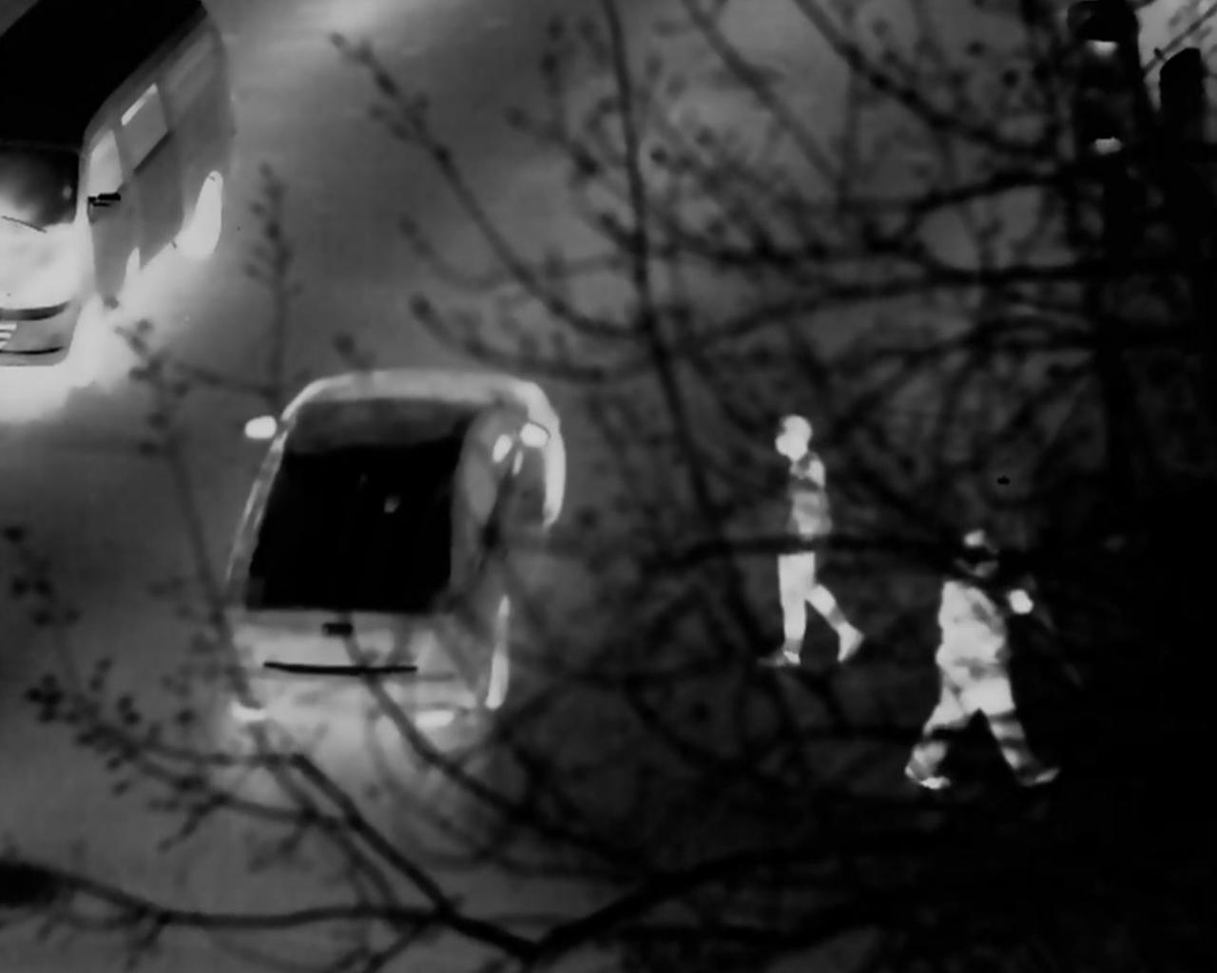person: (900, 524, 1061, 801), (761, 409, 860, 681)
